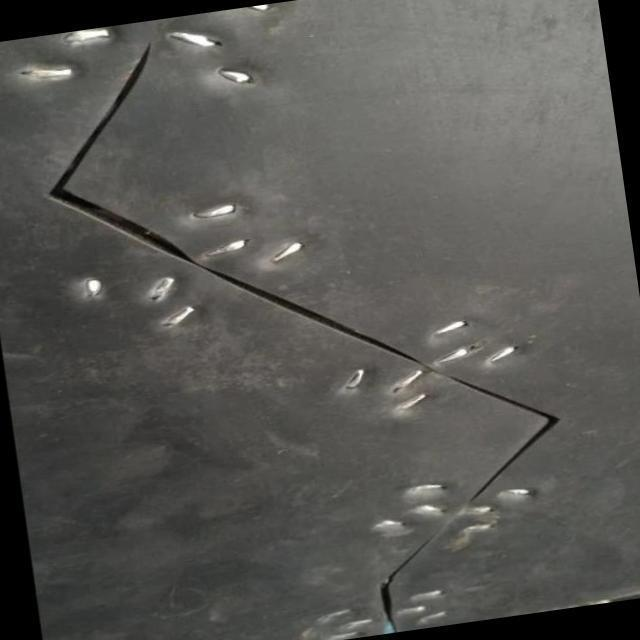Tear: (45, 38, 563, 634)
